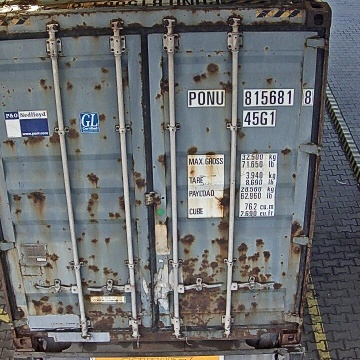serial_id: (188, 90, 312, 106)
